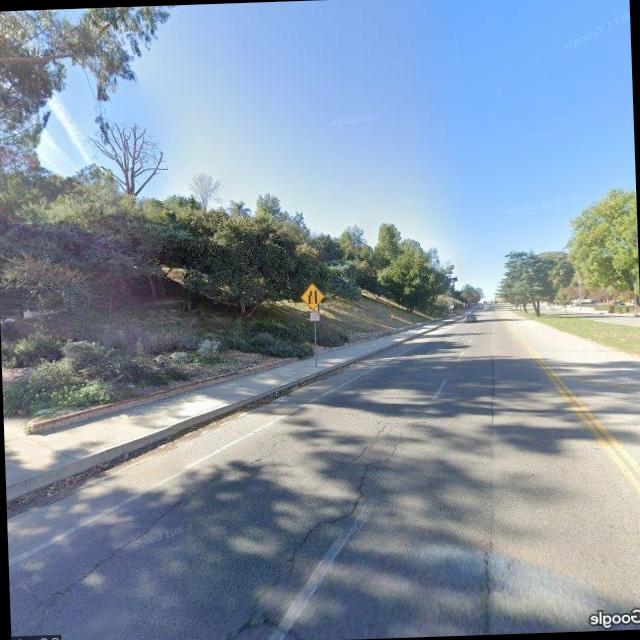pothole: (22, 442, 276, 616), (279, 408, 418, 560)
